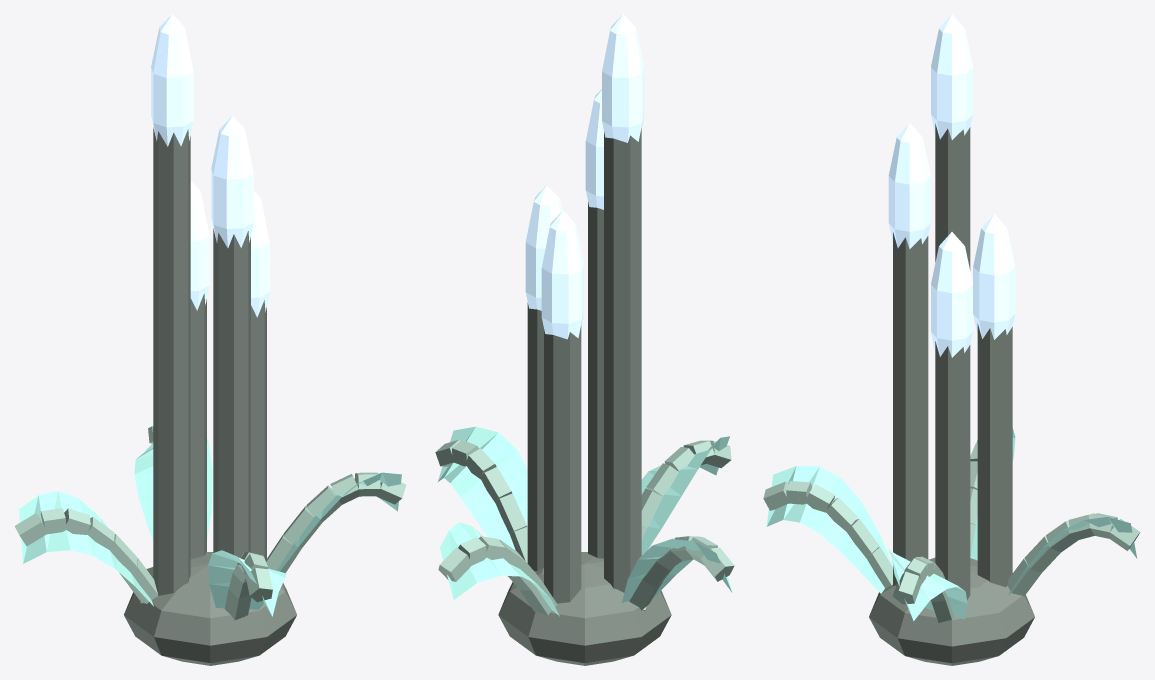
The model's file is mineralreed-seedling.glb.
3 views of the same model, side by side, from view 1: azimuth 30°, elevation 25°; view 2: azimuth 150°, elevation 25°; view 3: azimuth 270°, elevation 25° (orthographic). The views are drawn at different scales.
Parts seen in each view (by area): view 1: mineralreed.sway-pivot; view 2: mineralreed.sway-pivot; view 3: mineralreed.sway-pivot.
Boxes of the visible parts, x1,y1,x2,y2 form: mineralreed.sway-pivot: (14,14,406,665); mineralreed.sway-pivot: (435,14,734,665); mineralreed.sway-pivot: (763,14,1140,665).
Bounding box in the file's own units: 0.1858 × 0.338 × 0.1858.
